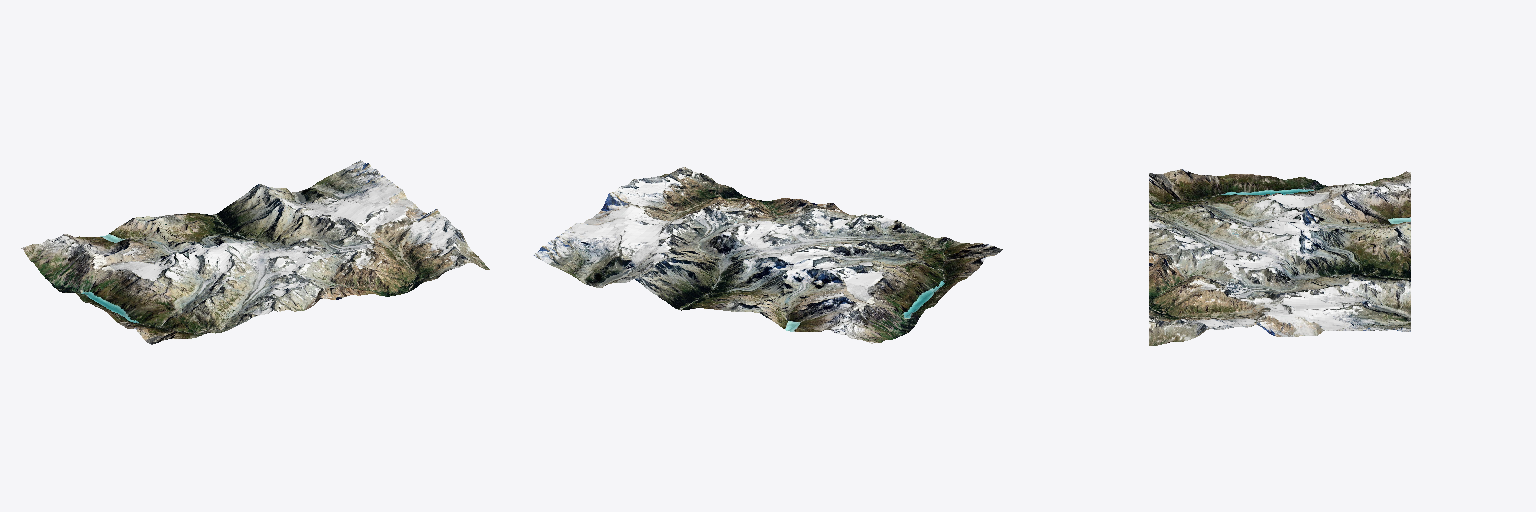
3 renders of one model, left to right at view 1: azimuth 30°, elevation 25°; view 2: azimuth 150°, elevation 25°; view 3: azimuth 270°, elevation 25°, orthographic.
Parts seen in each view (by area): view 1: EXPORT_GOOGLE_SAT_WM.027; view 2: EXPORT_GOOGLE_SAT_WM.027; view 3: EXPORT_GOOGLE_SAT_WM.027.
Part boxes in pixels (x1,y1,x2,y2): EXPORT_GOOGLE_SAT_WM.027: (21,160,489,344); EXPORT_GOOGLE_SAT_WM.027: (533,167,1002,343); EXPORT_GOOGLE_SAT_WM.027: (1149,169,1410,345).
Size of the model in its own units: 36498 by 2900 by 24332.
1 materials, 1 textured.